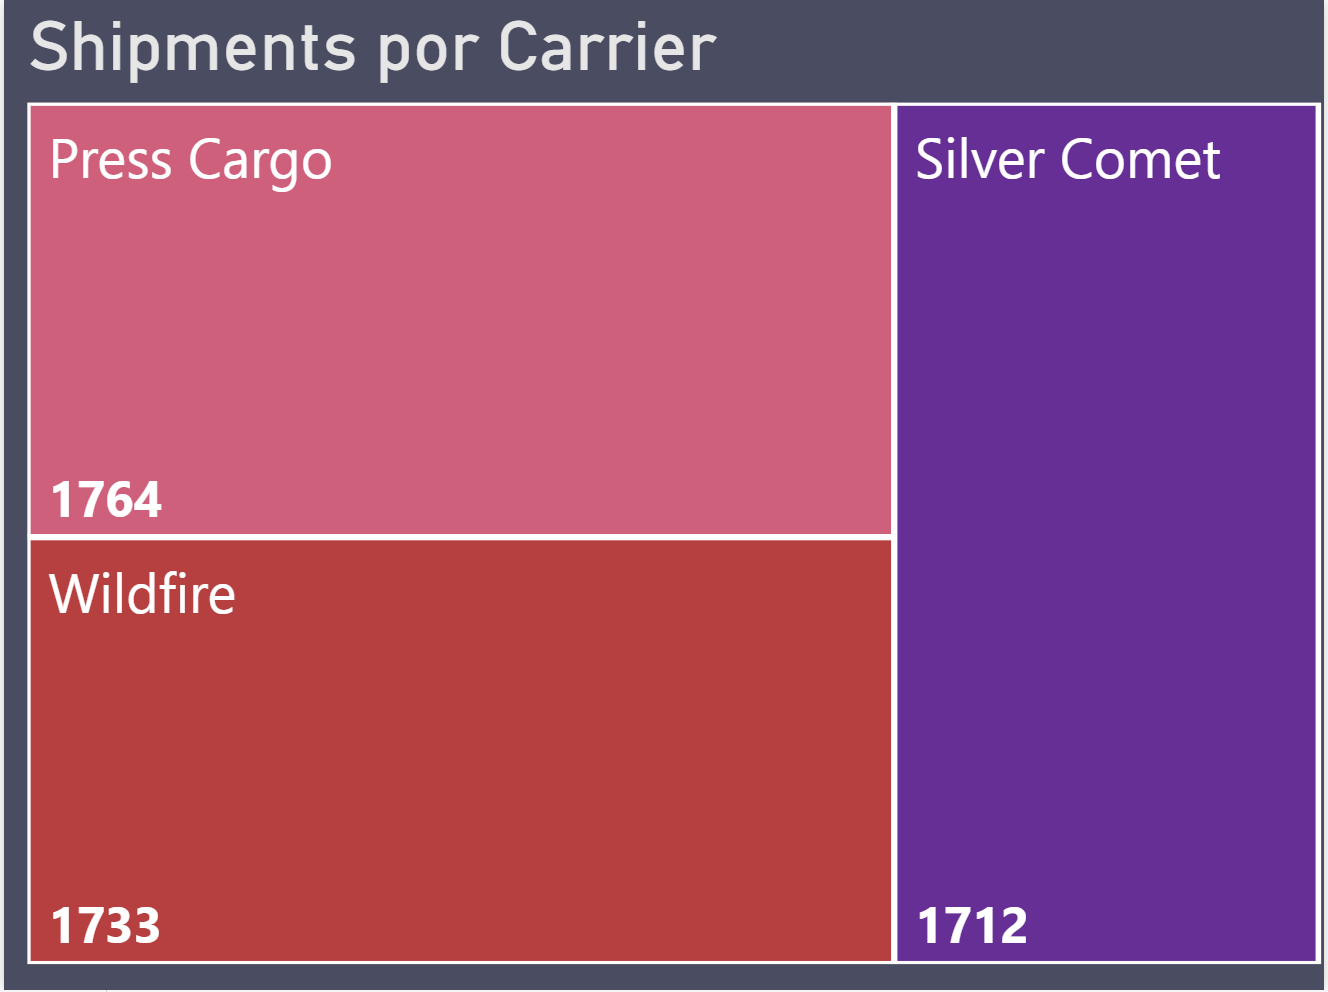

What the dashboard file says about the page in this screenshot:
{"tool":"powerbi","page":{"name":"Tooltip-Log","canvas":[320,240],"ordinal":5},"visuals":[{"type":"treemap","fields":{"Group":["public_entregas.transportadora_nome"],"Values":["dash-measures.Shipments"]},"box":[1,1,323,238],"z":0}]}

Visuals, with their boxes in screenshot pixels (x1, y1, x2, y2), scaled from the page's 320x240 canvas onto the 1328x992 screenshot:
treemap - public_entregas.transportadora_nome x dash-measures.Shipments: 4,4,1327,988
